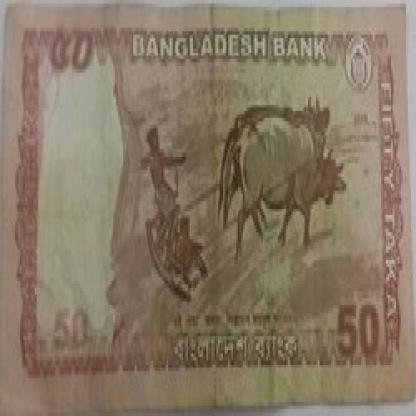Fifty taka: (334, 284, 383, 378), (46, 24, 102, 87)
